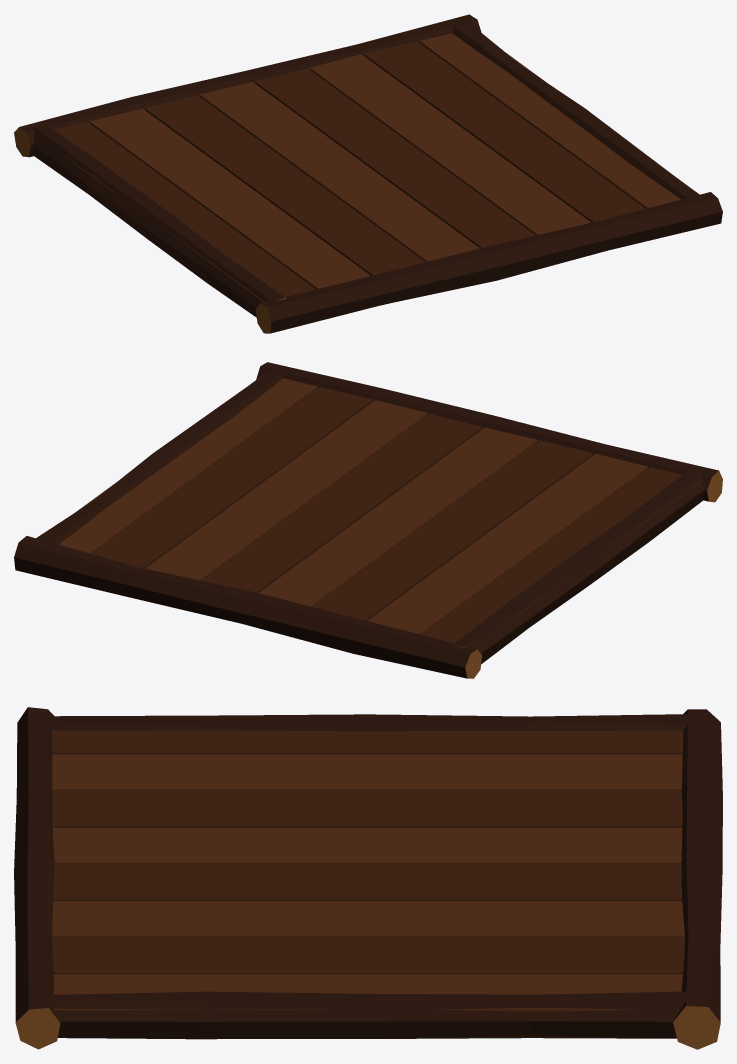
File: woodfloor.obj
3 views of the same model, one above another, from view 1: azimuth 30°, elevation 25°; view 2: azimuth 150°, elevation 25°; view 3: azimuth 270°, elevation 25° (orthographic). The views are drawn at different scales.
Visible parts, largest first — view 1: Deck, Border; view 2: Deck, Border; view 3: Deck, Border.
Boxes of the visible parts, <box> form: Deck: <box>34,33,699,302</box>; Border: <box>14,14,722,333</box>; Deck: <box>59,374,703,648</box>; Border: <box>14,362,722,678</box>; Deck: <box>52,730,684,1012</box>; Border: <box>14,707,722,1049</box>.
Bounding box in the file's own units: 16.4 × 1.13 × 16.35.
